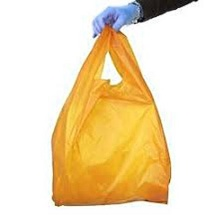plastic_bag: (42, 21, 178, 211)
